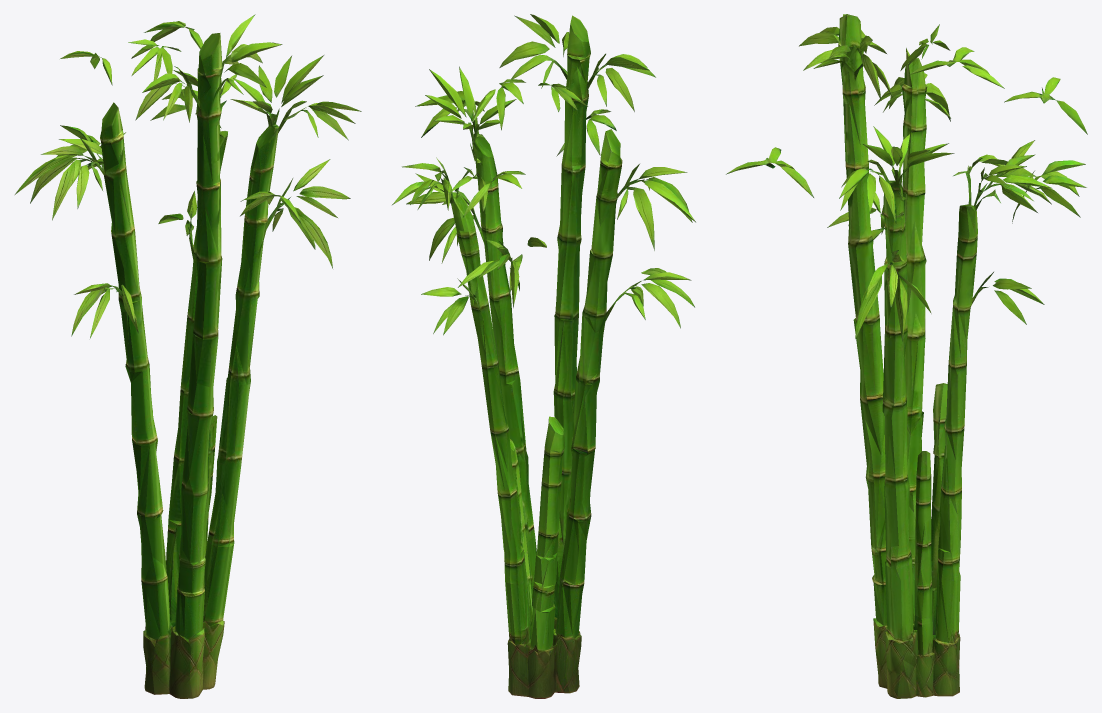
File: bamboo.glb
3 renders of one model, left to right at view 1: azimuth 30°, elevation 25°; view 2: azimuth 150°, elevation 25°; view 3: azimuth 270°, elevation 25°, orthographic. The views are drawn at different scales.
Bounding box in the file's own units: 0.9485 × 1.9 × 0.9245.
Materials: 1 (1 with a texture image).
